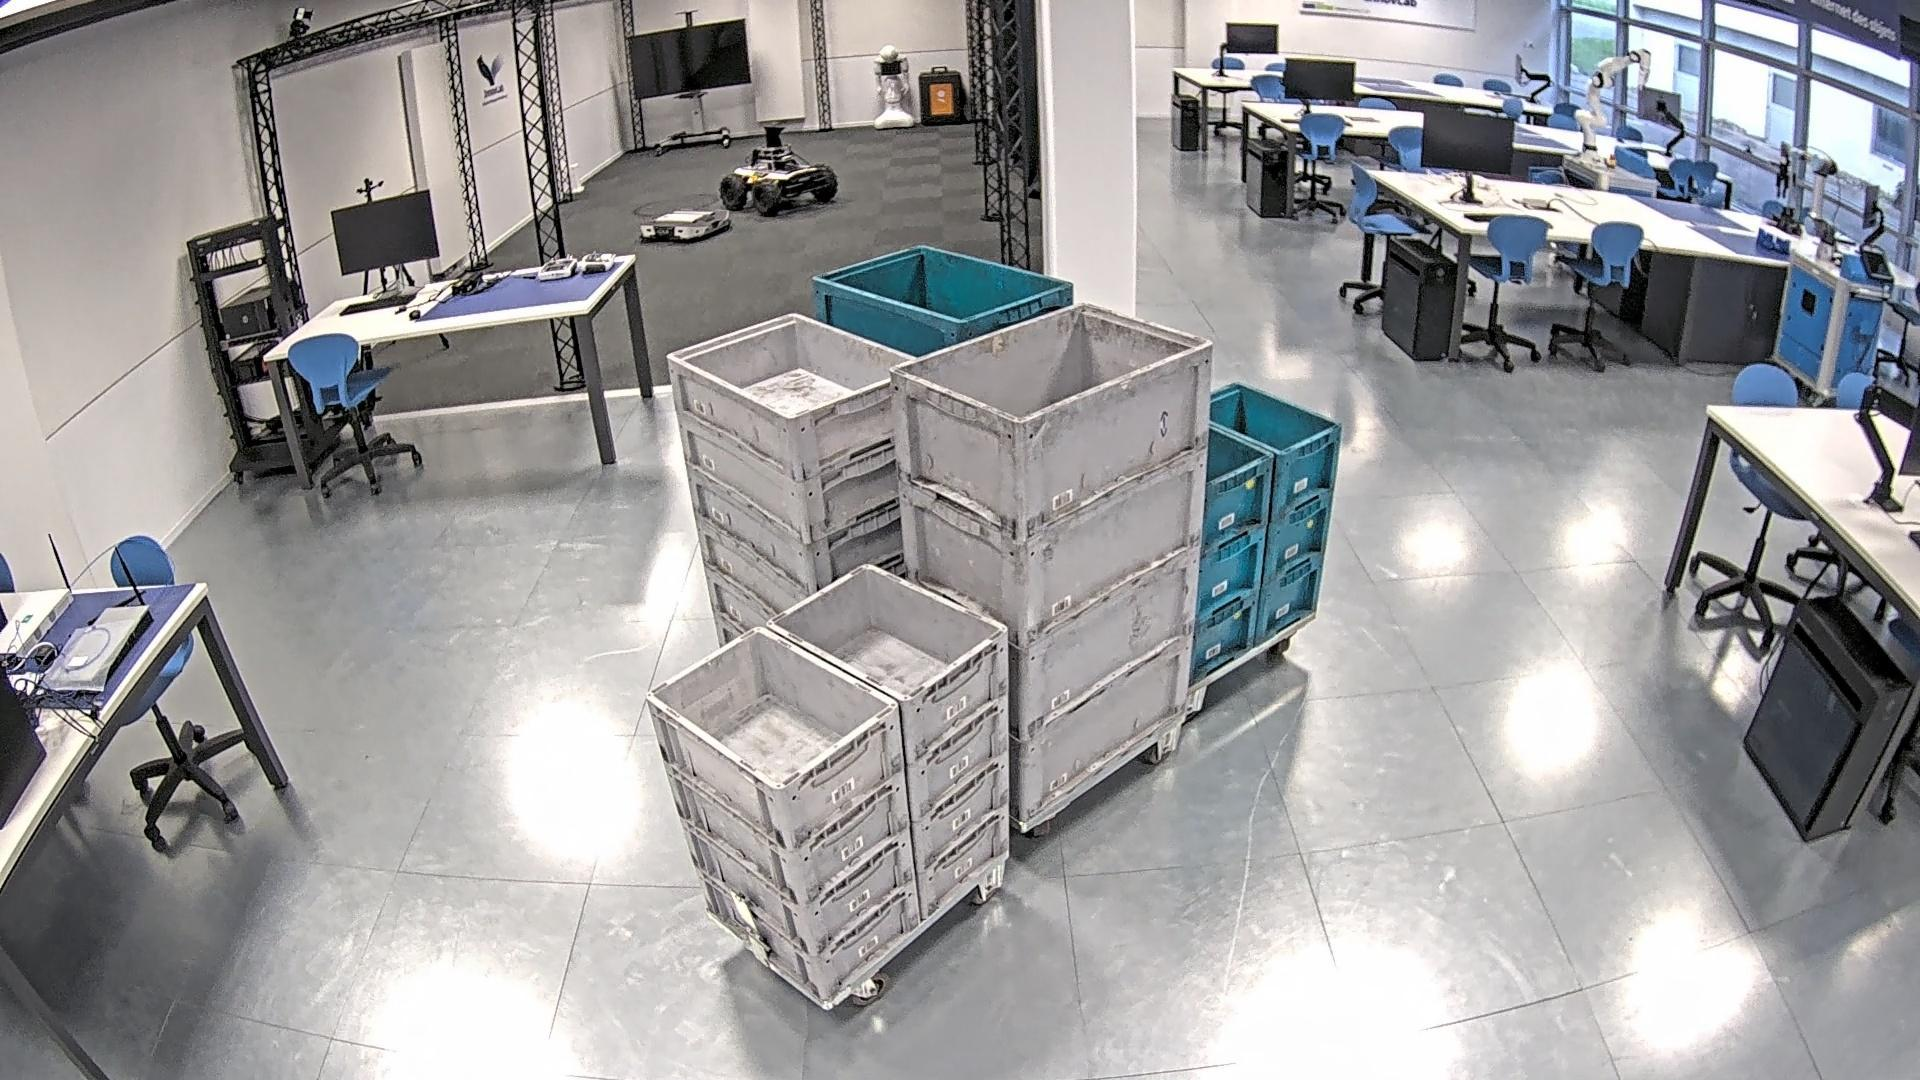Box3G: (661, 309, 943, 711)
Box4G: (885, 299, 1218, 831)
Box8G: (636, 560, 1015, 1013)
BoxB4: (807, 245, 1127, 698)
BoxB8: (1116, 380, 1346, 695)
